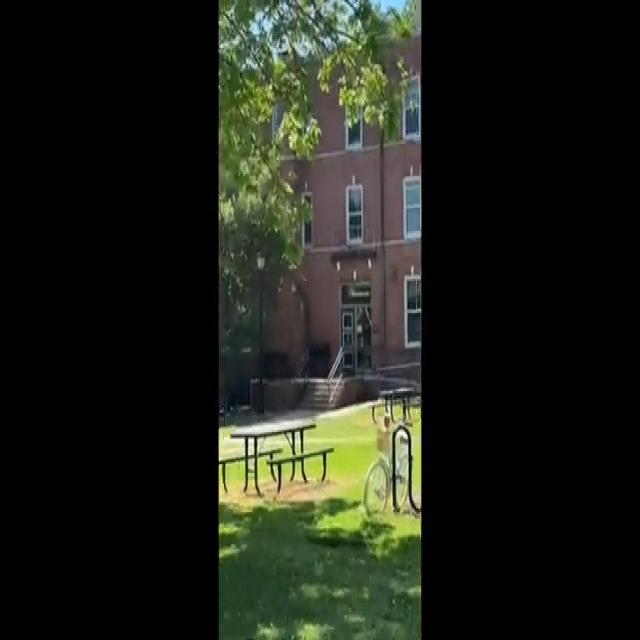drone: (298, 269, 312, 288)
